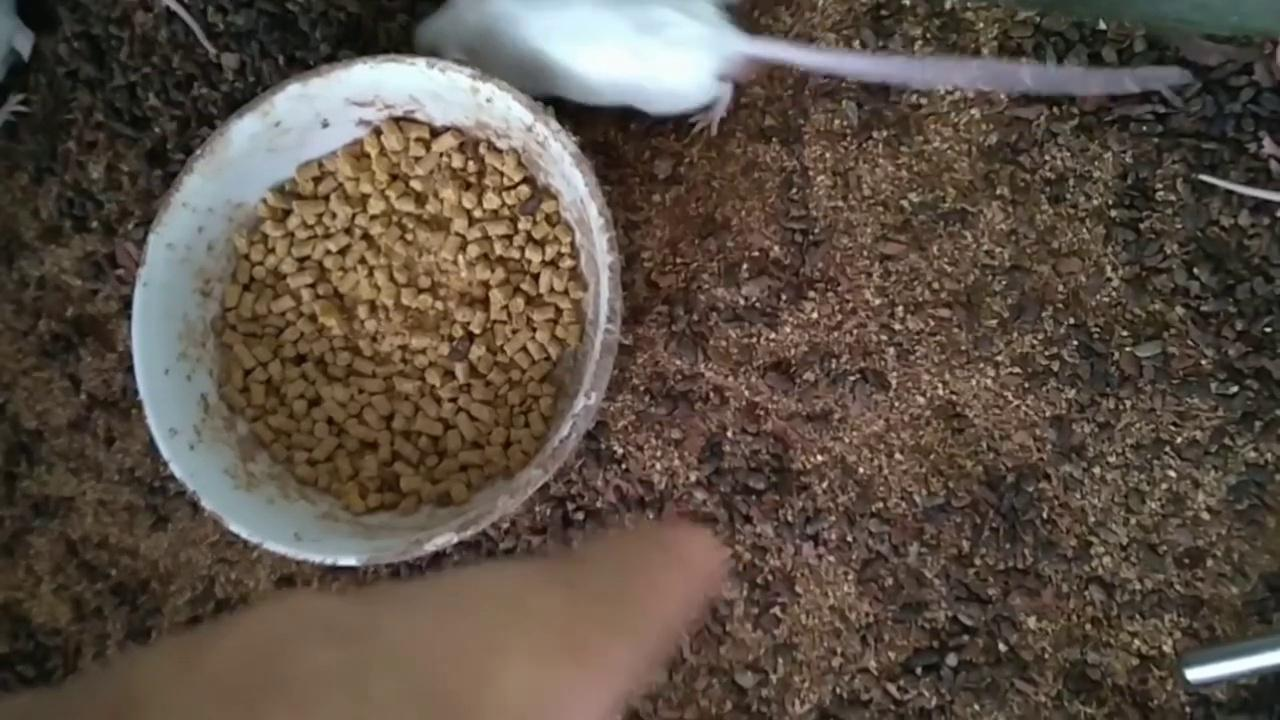rat: (415, 0, 1190, 137)
